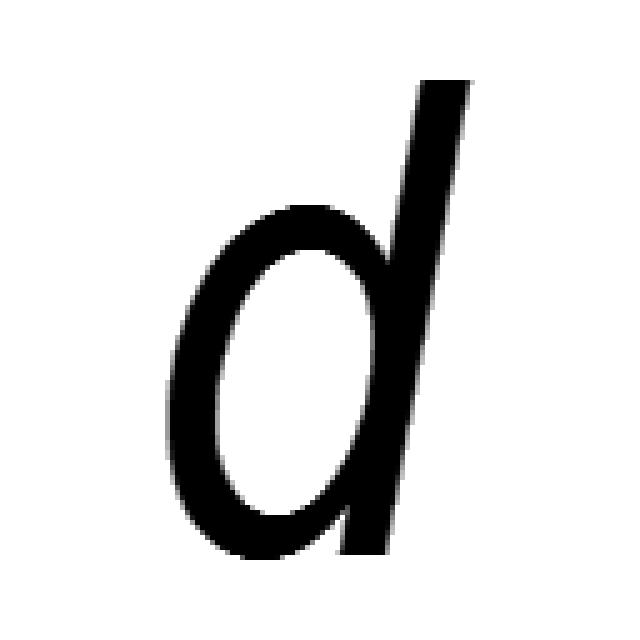D: (155, 70, 475, 565)
